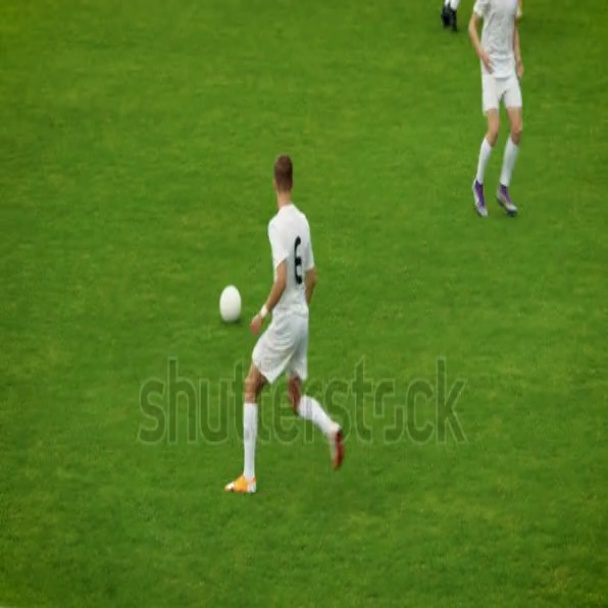ball: (222, 284, 239, 313)
